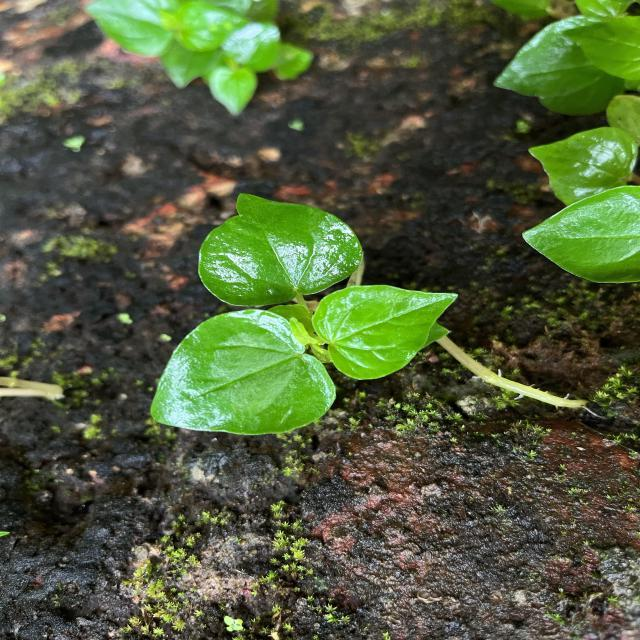Peperomia pellucida: (146, 306, 340, 440), (195, 190, 368, 310), (309, 282, 462, 384)
